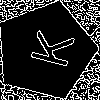K: (20, 25, 75, 70)
